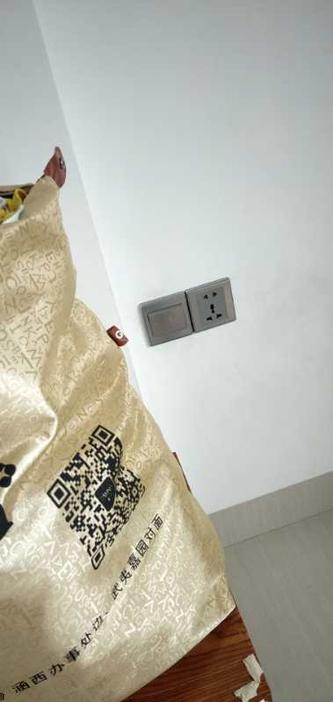switch: (142, 298, 195, 341)
